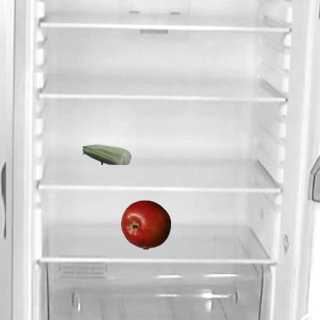Apple Braeburn: (120, 199, 170, 249)
Corn Husk: (81, 129, 131, 179)
